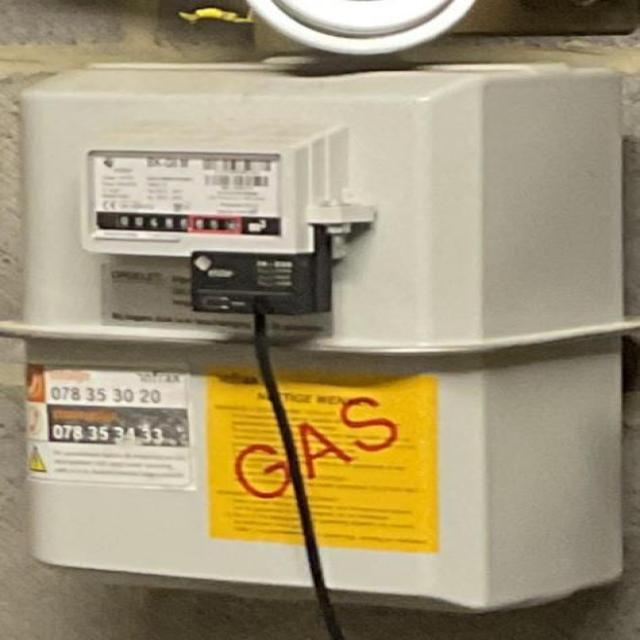gaz_meter: (91, 150, 279, 240)
indication: (110, 212, 242, 232)
